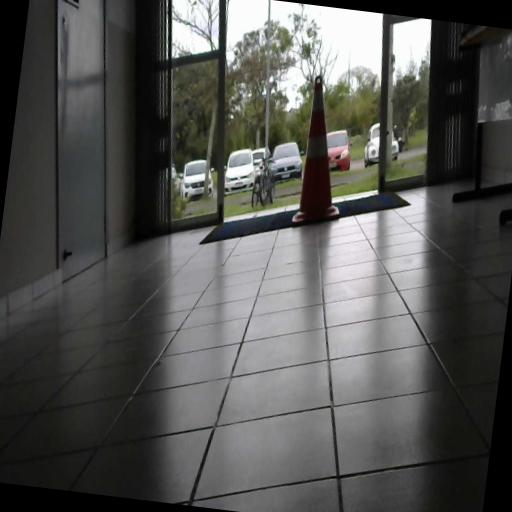cone: (290, 74, 354, 226)
